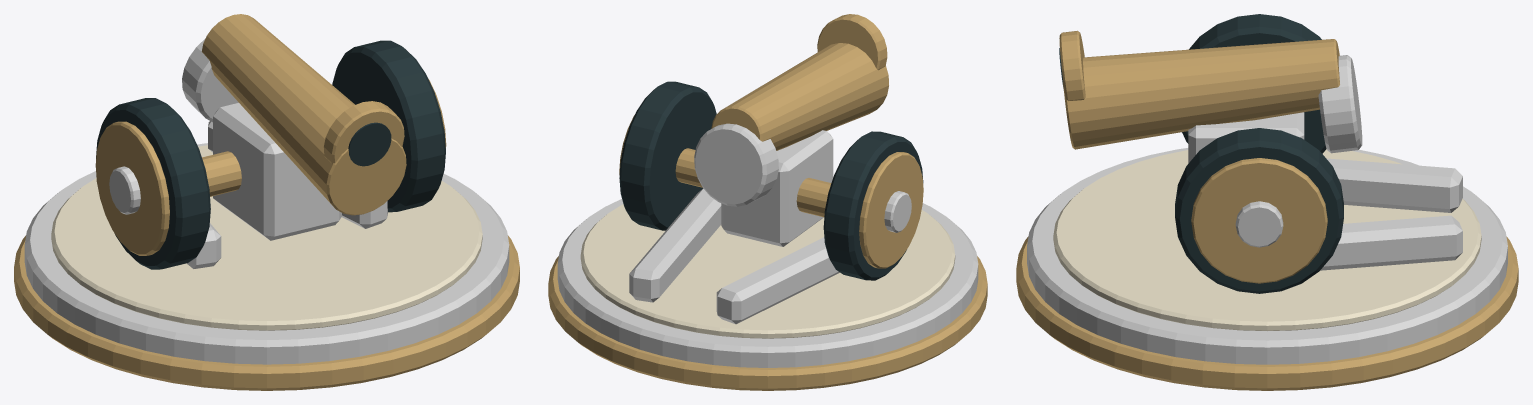
Rendered from army.glb.
3 renders of one model, left to right at view 1: azimuth 30°, elevation 25°; view 2: azimuth 150°, elevation 25°; view 3: azimuth 270°, elevation 25°, orthographic. The views are drawn at different scales.
Visible parts, largest first — view 1: Army; view 2: Army; view 3: Army.
Part boxes in pixels (x1,y1,x2,y2): Army: [14, 14, 519, 390]; Army: [548, 14, 987, 390]; Army: [1016, 14, 1518, 390].
Size of the model in its own units: 1 by 0.555 by 1.
